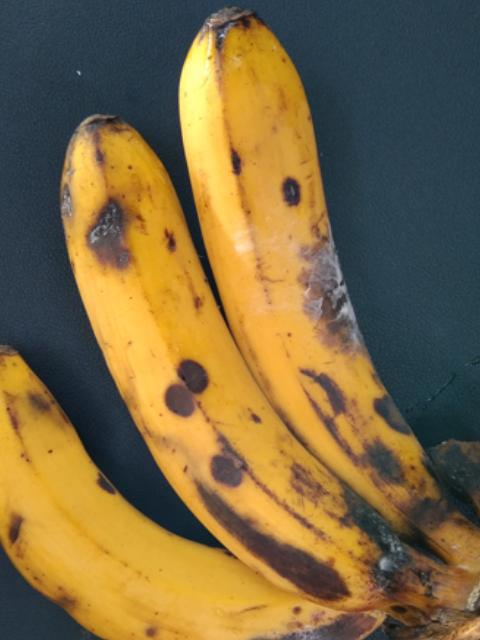ripe: (44, 103, 378, 597), (0, 345, 411, 639)
rotten: (170, 2, 438, 533)
